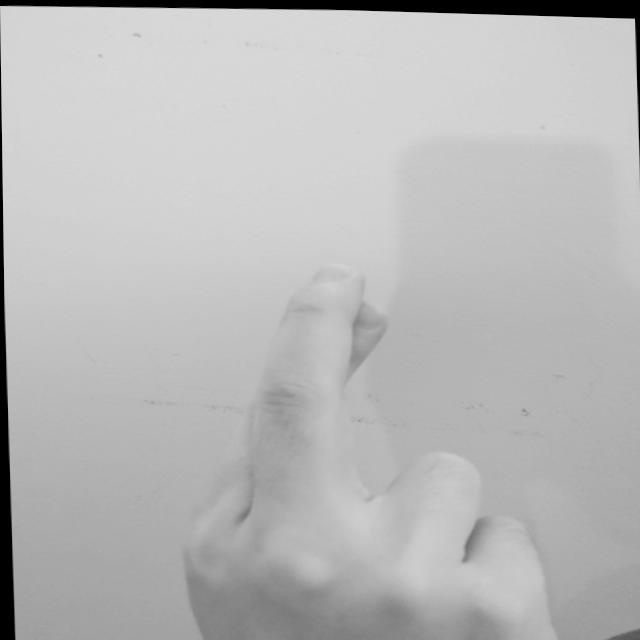R: (161, 242, 578, 639)
